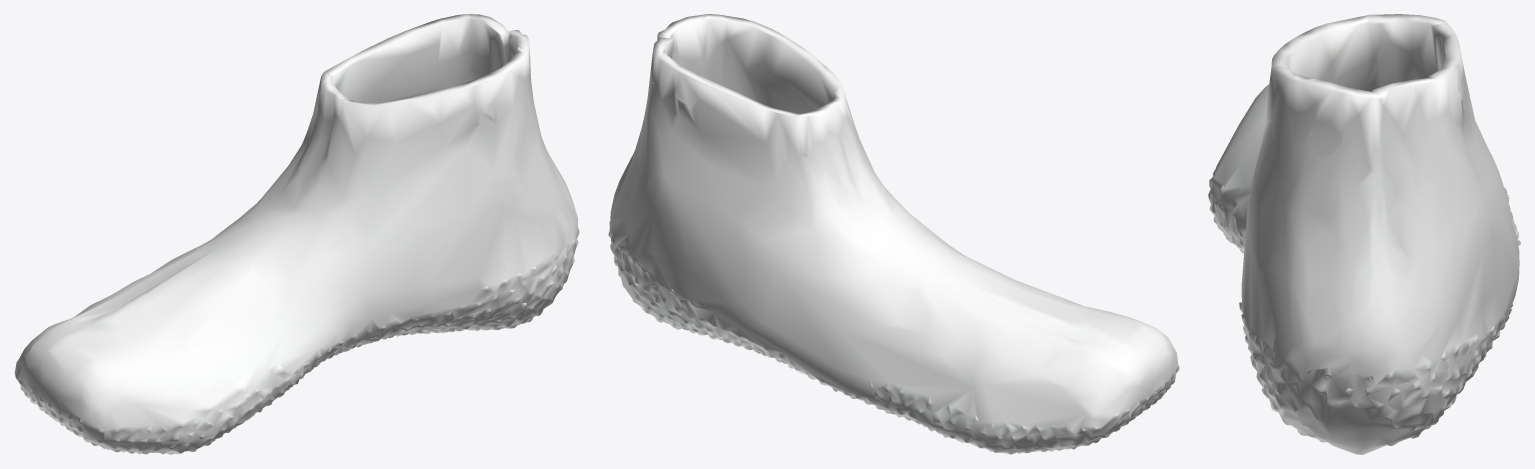
The model's file is molosoc-3d1.glb.
3 views of the same model, side by side, from view 1: azimuth 30°, elevation 25°; view 2: azimuth 150°, elevation 25°; view 3: azimuth 270°, elevation 25° (orthographic). The views are drawn at different scales.
Parts seen in each view (by area): view 1: Mesh1.0; view 2: Mesh1.0; view 3: Mesh1.0.
Boxes of the visible parts, <box> form: Mesh1.0: <box>14,14,579,454</box>; Mesh1.0: <box>608,14,1179,454</box>; Mesh1.0: <box>1208,14,1520,454</box>.
Size of the model in its own units: 1.9 by 1.04 by 0.7454.
1 material, 1 textured.
